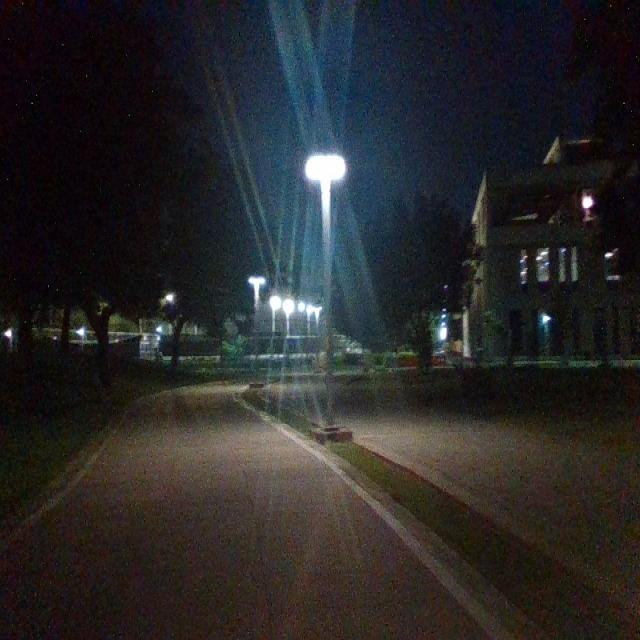lane: (0, 387, 492, 640)
